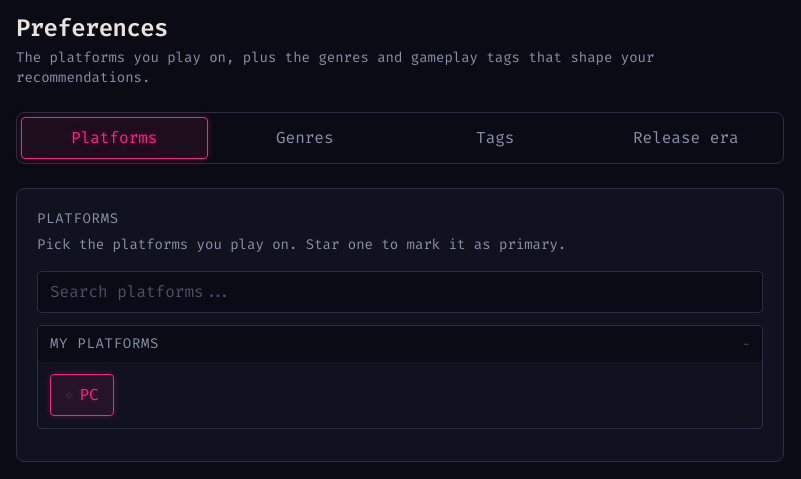
it: Preferences page › renders the platforms and genre-preferences sections
This screenshot has width=801, height=479.
Expected: the button titled "remove pc" is shown, [50, 374, 114, 416]
Expected: the text "Genre preferences" is not shown
What coordinates should you click on to do the following:
click the tab "Genres"
I would click on:
 (305, 138)
Its box is [212, 117, 398, 159].
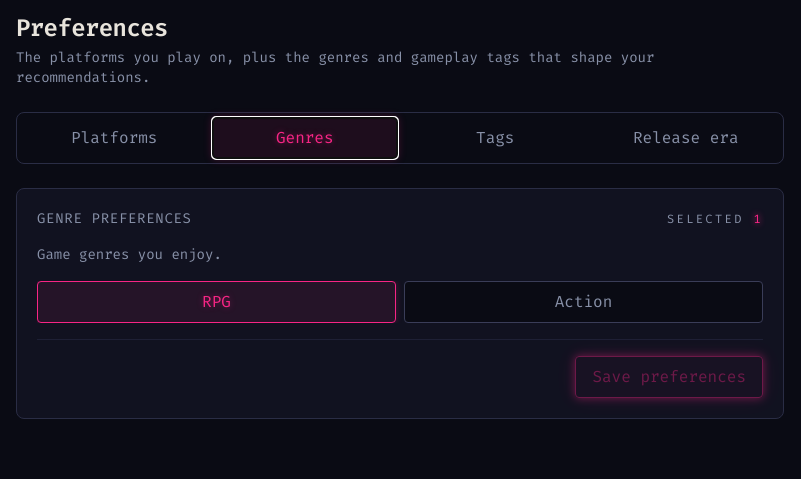
Now the text "Genre preferences" is shown, box [37, 209, 192, 229]
Now the button "RPG" is shown, box [37, 281, 396, 323]
Now the button "Action" is shown, box [404, 281, 763, 323]
